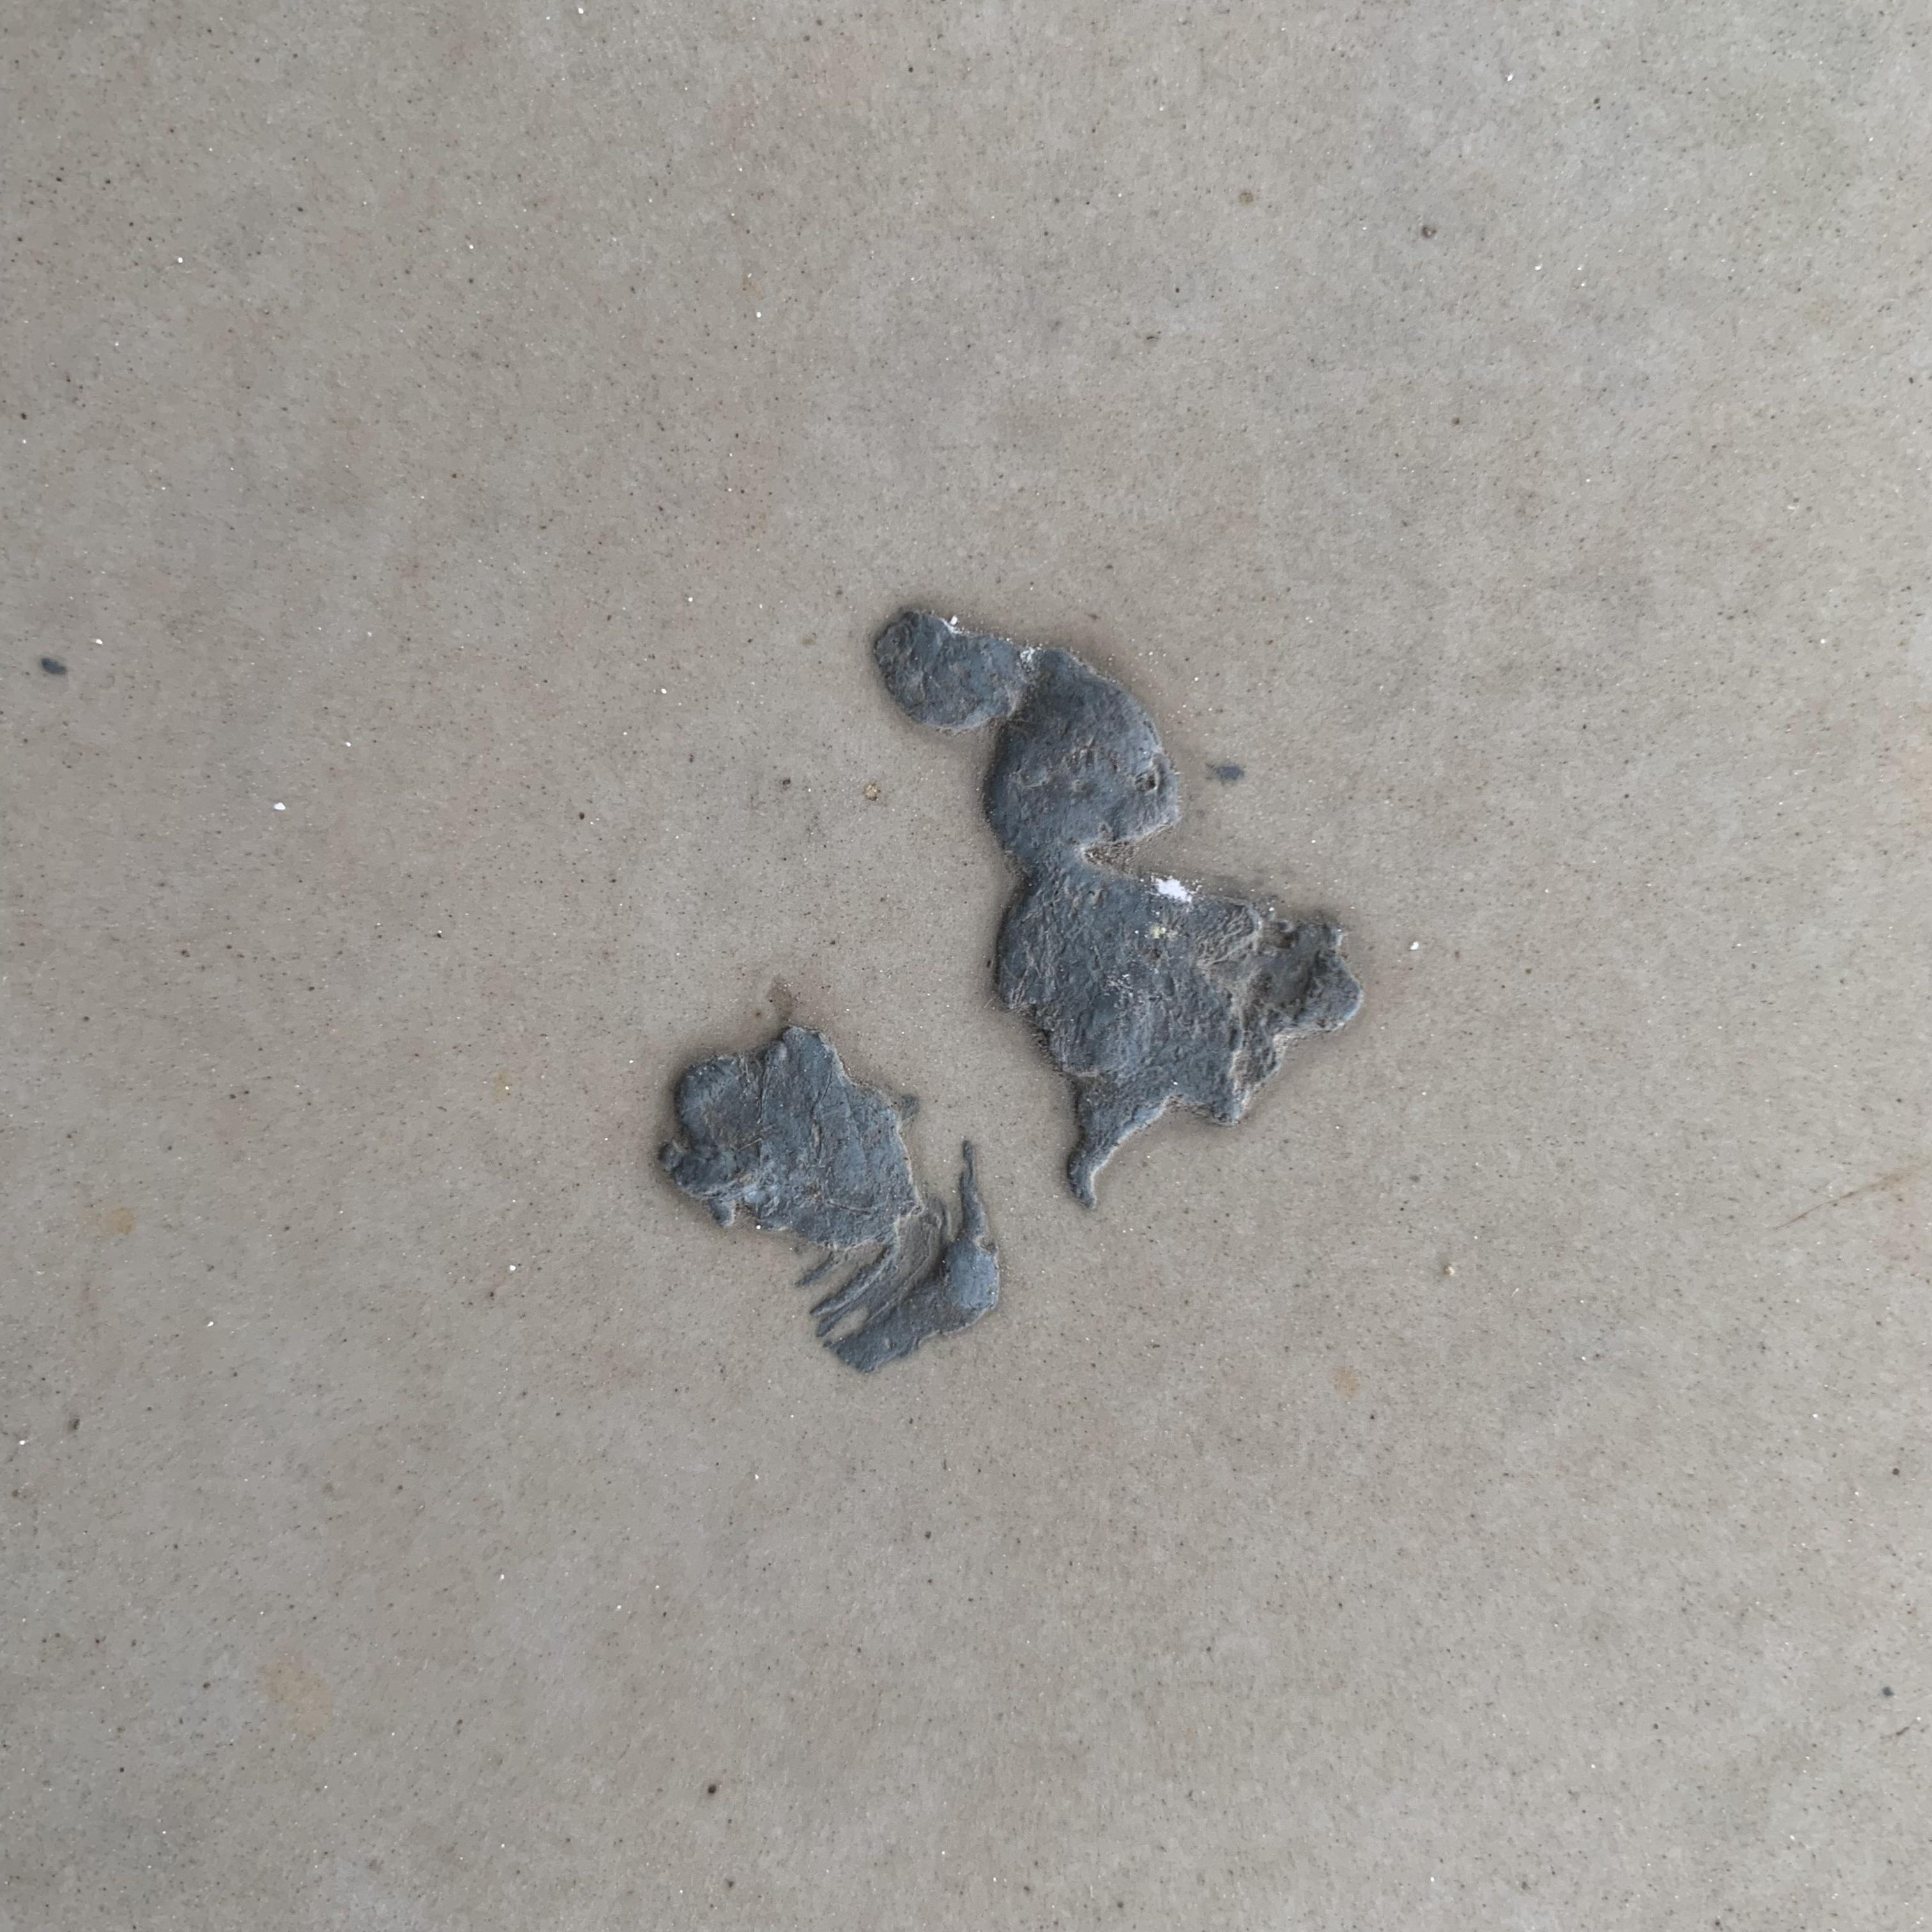grey spot: (867, 603, 1366, 1212), (655, 1023, 1005, 1376)
